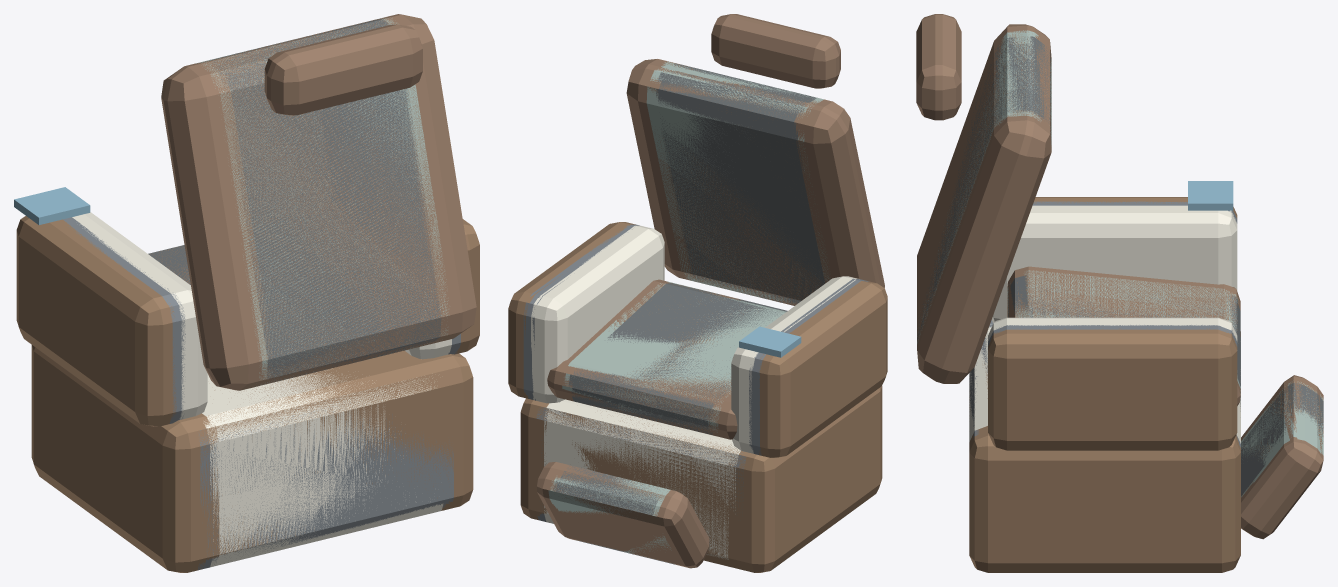
The model's file is Gear19.fbx.
The picture shows the model from 3 angles, left to right: view 1: azimuth 30°, elevation 25°; view 2: azimuth 150°, elevation 25°; view 3: azimuth 270°, elevation 25°; orthographic projection. The views are drawn at different scales.
Visible parts, largest first — view 1: Gear19_V10_Leather, Gear19_V10_Walnut, Gear19_V1_Charcoal, Gear19_V1_Ivory, Gear19_V2_Charcoal, Gear19_V7_Graphite, Gear19_V8_Leather, Gear19_V5_Graphite, Gear19_V5_Fabric, Gear19_V2_Ivory, Gear19_V8_Walnut, Gear19_V3_Charcoal (+9 smaller); view 2: Gear19_V10_Leather, Gear19_V10_Walnut, Gear19_V2_Charcoal, Gear19_V1_Charcoal, Gear19_V1_Ivory, Gear19_V6_Fabric, Gear19_V9_Walnut, Gear19_V5_Fabric, Gear19_V8_Leather, Gear19_V3_Ivory, Gear19_V8_Walnut, Gear19_V4_Ivory (+10 smaller); view 3: Gear19_V10_Walnut, Gear19_V10_Leather, Gear19_V1_Ivory, Gear19_V9_Leather, Gear19_V7_Leather, Gear19_V5_Fabric, Gear19_V1_Charcoal, Gear19_V8_Leather, Gear19_V4_Fabric, Gear19_V2_Charcoal, Gear19_V3_Charcoal, Gear19_V6_Fabric (+9 smaller).
Boxes of the visible parts, <box> form: Gear19_V10_Leather: <box>161,14,476,390</box>; Gear19_V10_Walnut: <box>16,216,479,572</box>; Gear19_V1_Charcoal: <box>169,20,438,374</box>; Gear19_V1_Ivory: <box>78,212,440,565</box>; Gear19_V2_Charcoal: <box>212,19,441,382</box>; Gear19_V7_Graphite: <box>63,218,460,570</box>; Gear19_V8_Leather: <box>192,15,455,388</box>; Gear19_V5_Graphite: <box>66,217,453,568</box>; Gear19_V5_Fabric: <box>189,18,448,379</box>; Gear19_V2_Ivory: <box>89,227,445,497</box>; Gear19_V8_Walnut: <box>59,219,463,505</box>; Gear19_V3_Charcoal: <box>148,19,442,378</box>; Gear19_V10_Leather: <box>537,14,884,568</box>; Gear19_V10_Walnut: <box>508,222,887,572</box>; Gear19_V2_Charcoal: <box>555,63,824,551</box>; Gear19_V1_Charcoal: <box>556,70,822,564</box>; Gear19_V1_Ivory: <box>538,227,853,559</box>; Gear19_V6_Fabric: <box>548,61,827,550</box>; Gear19_V9_Walnut: <box>518,222,868,571</box>; Gear19_V5_Fabric: <box>550,61,830,554</box>; Gear19_V8_Leather: <box>545,15,823,549</box>; Gear19_V3_Ivory: <box>533,226,857,523</box>; Gear19_V8_Walnut: <box>521,223,871,571</box>; Gear19_V4_Ivory: <box>531,225,856,522</box>; Gear19_V10_Walnut: <box>969,197,1240,572</box>; Gear19_V10_Leather: <box>916,14,1323,539</box>; Gear19_V1_Ivory: <box>969,209,1237,423</box>; Gear19_V9_Leather: <box>916,15,1323,479</box>; Gear19_V7_Leather: <box>922,30,1323,432</box>; Gear19_V5_Fabric: <box>917,32,1323,459</box>; Gear19_V1_Charcoal: <box>917,37,1323,440</box>; Gear19_V8_Leather: <box>916,16,1323,450</box>; Gear19_V4_Fabric: <box>918,32,1323,497</box>; Gear19_V2_Charcoal: <box>931,36,1323,495</box>; Gear19_V3_Charcoal: <box>917,37,1318,458</box>; Gear19_V6_Fabric: <box>917,30,1321,482</box>.
Bounding box in the file's own units: 95.3 × 138 × 108.
